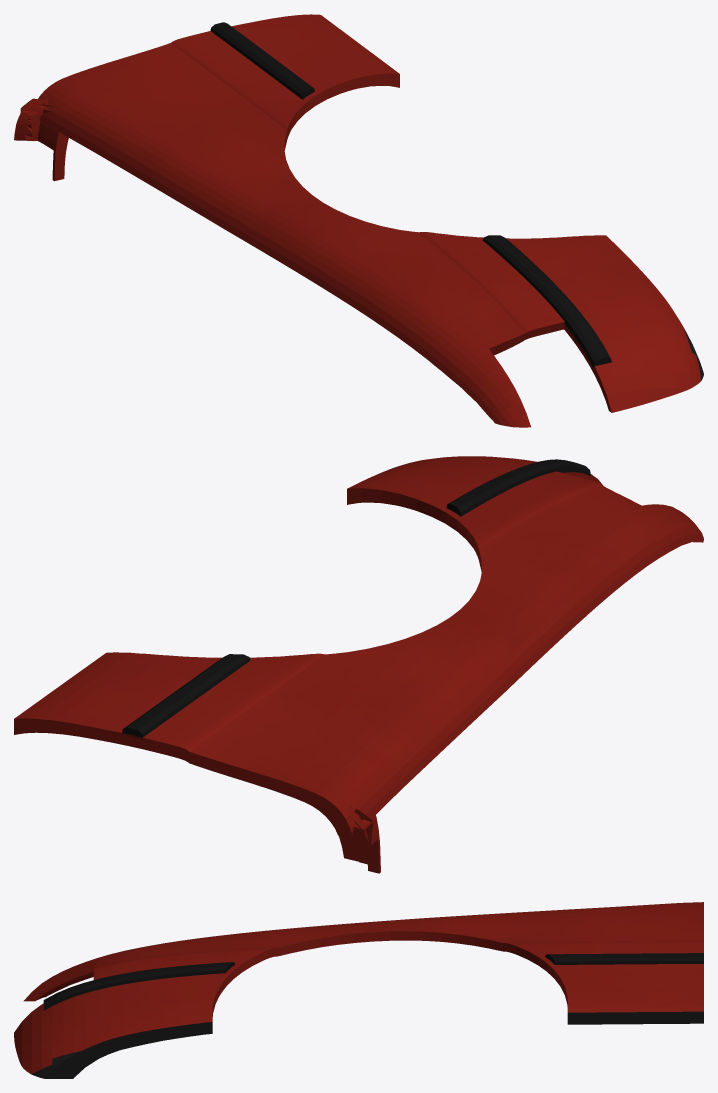
Rendered from paralama_e.glb.
3 views of the same model, one above another, from view 1: azimuth 30°, elevation 25°; view 2: azimuth 150°, elevation 25°; view 3: azimuth 270°, elevation 25° (orthographic). The views are drawn at different scales.
Visible parts, largest first — view 1: paralama_e_pintura, paralama_e_borracha; view 2: paralama_e_pintura, paralama_e_borracha; view 3: paralama_e_pintura, paralama_e_chassi, paralama_e_borracha.
Part boxes in pixels (x1=…): paralama_e_pintura: x1=14, y1=14, x2=700, y2=427; paralama_e_borracha: x1=210, y1=22, x2=611, y2=368; paralama_e_pintura: x1=14, y1=456, x2=703, y2=873; paralama_e_borracha: x1=122, y1=459, x2=590, y2=739; paralama_e_pintura: x1=14, y1=902, x2=703, y2=1074; paralama_e_chassi: x1=31, y1=1011, x2=703, y2=1078; paralama_e_borracha: x1=43, y1=953, x2=703, y2=1010.
Bounding box in the file's own units: 0.6427 × 0.1889 × 1.45.
3 materials, 1 textured.
